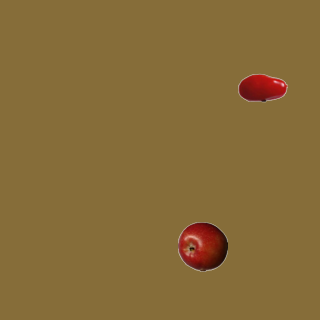Apple Braeburn: (177, 221, 227, 271)
Tomato 2: (237, 62, 287, 112)
